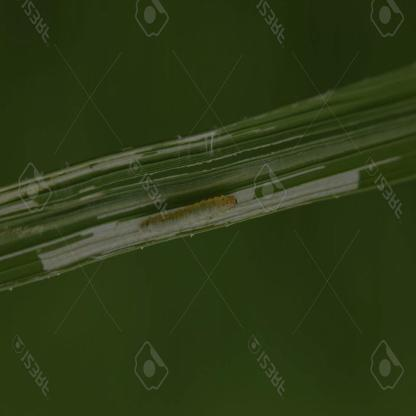leaf-folder: (133, 186, 245, 239)
